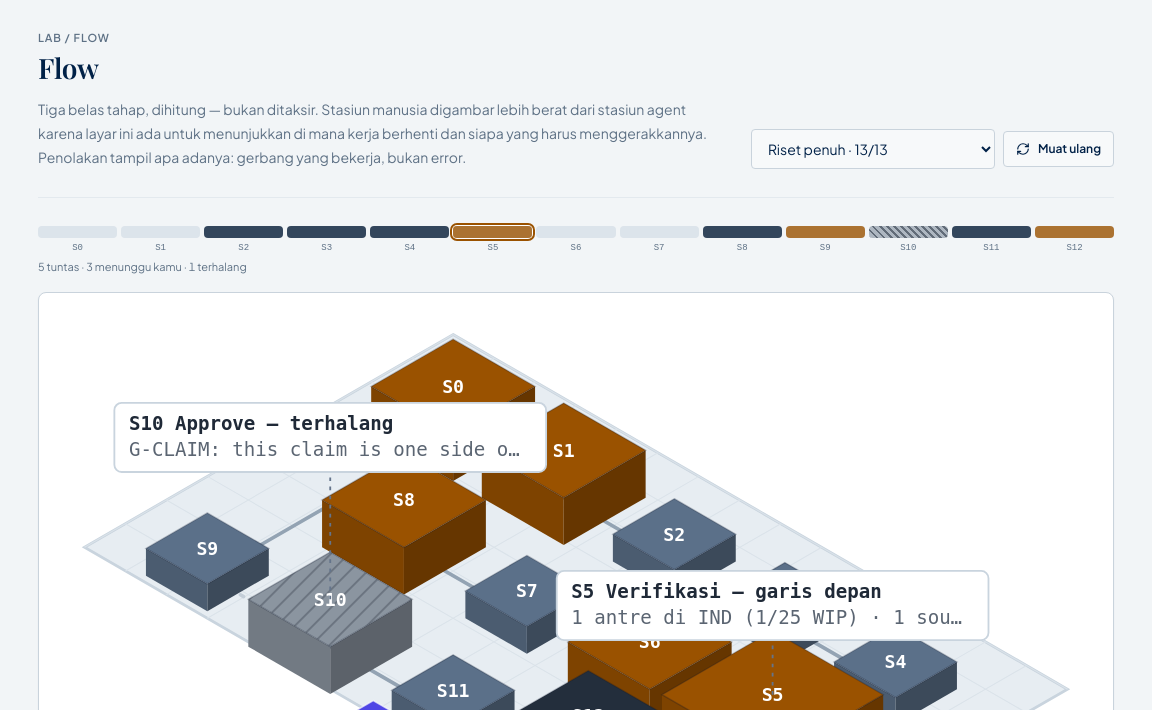
Test case: §2 a blocked stage names its blocker and the record › an open DIRECT contradiction bars S10 with the contradiction and claim ids on screen
Check: the element named "13 tahap berurutan" is shown, box [38,226,1114,276]
Click the button named "S10 Approve: blocked" at (908, 232), box [869,226,948,238]
(page scrolled)
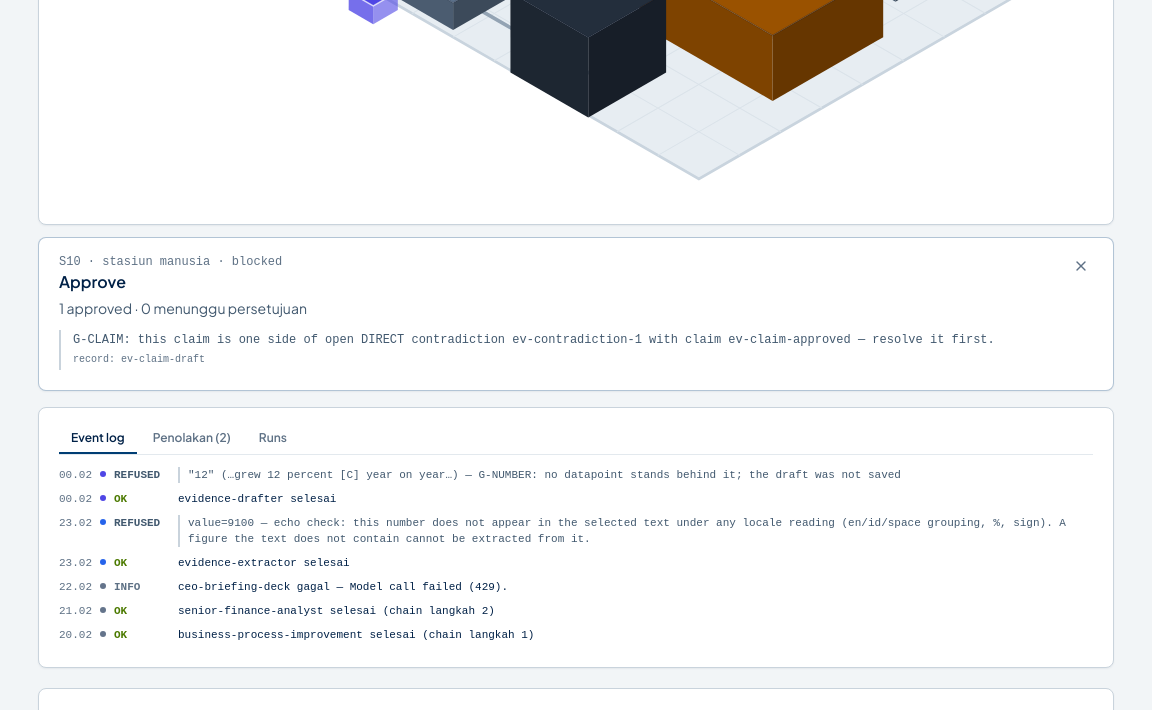
Check: the text "S10 · stasiun manusia · blocked" is shown, box [59,254,307,270]
Check: the text "record: ev-claim-draft" is shown, box [73,354,205,365]
